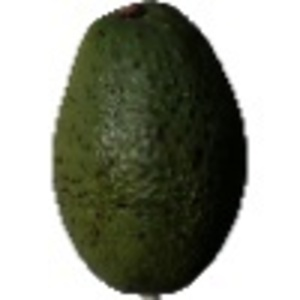abacate: (50, 2, 249, 298)
